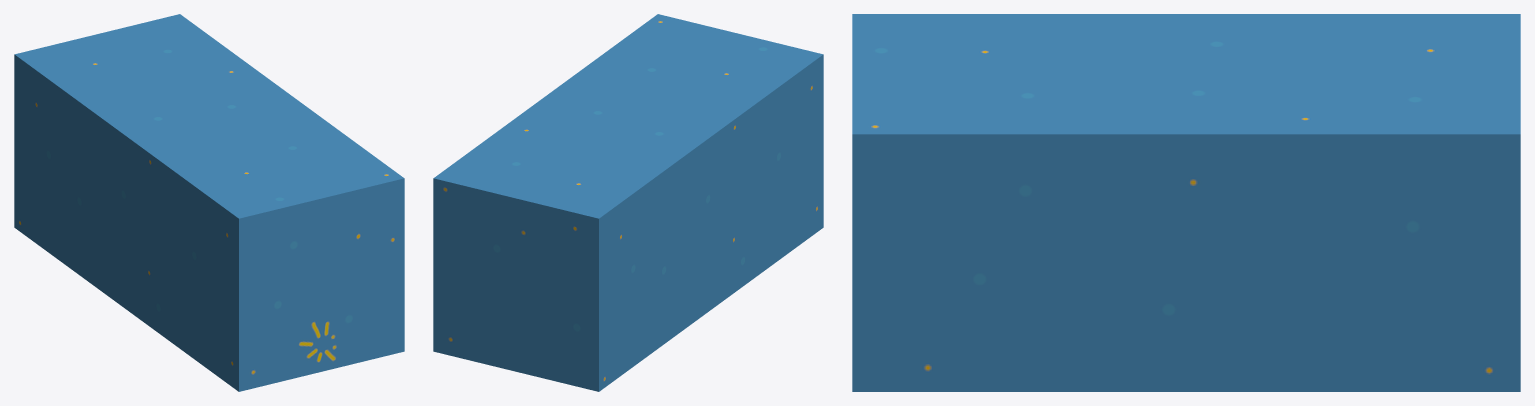
File: Aquarium.obj
3 views of the same model, side by side, from view 1: azimuth 30°, elevation 25°; view 2: azimuth 150°, elevation 25°; view 3: azimuth 270°, elevation 25° (orthographic). The views are drawn at different scales.
Visible parts, largest first — view 1: Aquarium_Aquarium_0; view 2: Aquarium_Aquarium_0; view 3: Aquarium_Aquarium_0.
Boxes of the visible parts, bbox=[...] form: Aquarium_Aquarium_0: bbox=[14, 14, 404, 391]; Aquarium_Aquarium_0: bbox=[433, 14, 823, 391]; Aquarium_Aquarium_0: bbox=[852, 14, 1520, 391].
Size of the model in its own units: 200 by 200 by 470.
